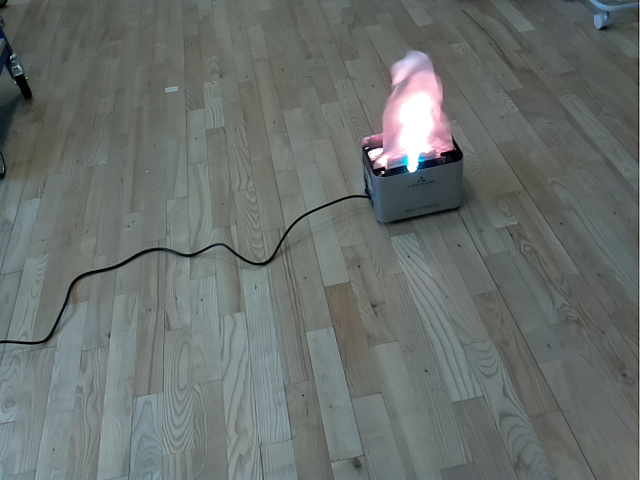fire: (368, 49, 456, 172)
